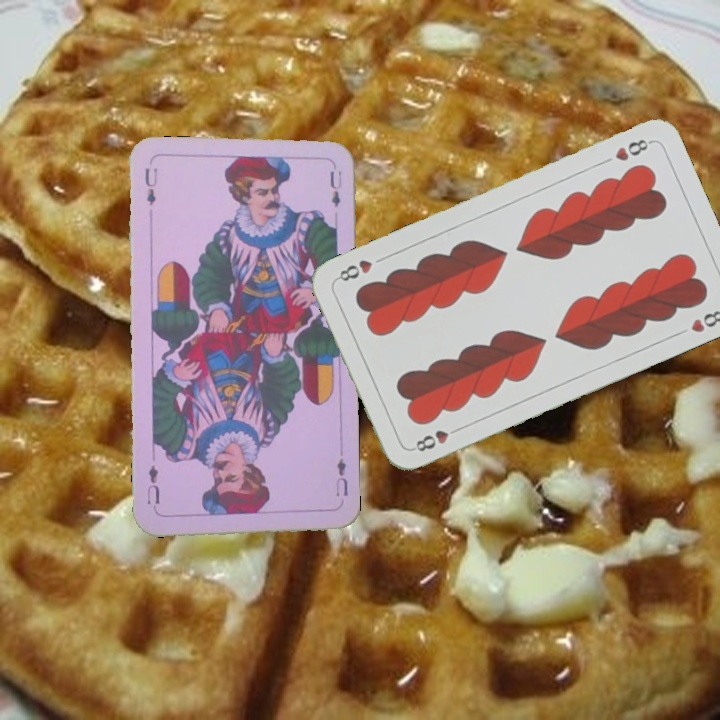EU: (140, 164, 161, 208), (331, 454, 351, 499)
H8: (408, 422, 464, 455), (610, 135, 655, 164)
